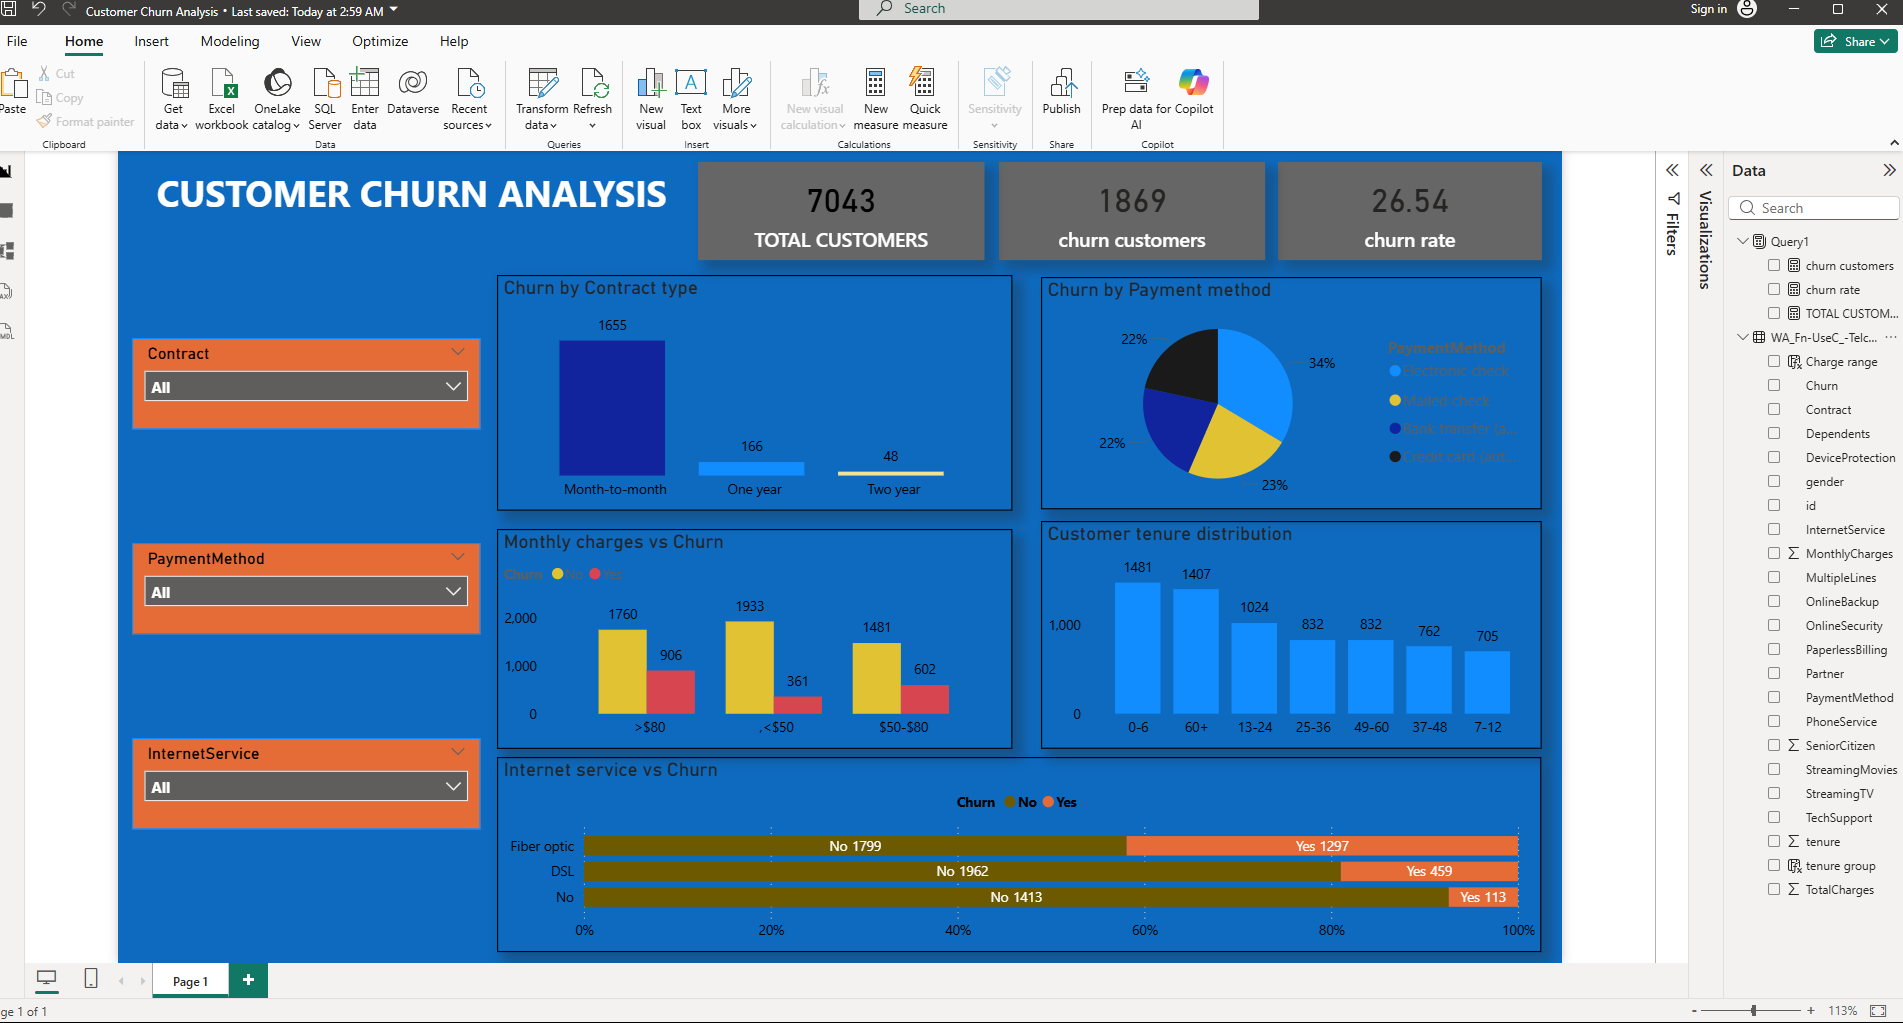

Layout of this report page (visuals, bound fields, positions):
{"tool":"powerbi","page":{"name":"Page 1","canvas":[1280,720],"ordinal":0},"visuals":[{"type":"card","fields":{"Values":["Query1.churn rate"]},"box":[1028.2,10,233.8,86.9],"z":0},{"type":"card","fields":{"Values":["Query1.churn customers"]},"box":[781.4,10,235.8,86.9],"z":1000},{"type":"card","fields":{"Values":["Query1.TOTAL CUSTOMERS"]},"box":[514.6,10,253.8,86.9],"z":2000},{"type":"columnChart","title":"Churn by  Contract type","fields":{"Category":["WA_Fn-UseC_-Telco-Customer-Churn.Contract"],"Y":["Query1.churn customers"]},"box":[335.7,109.9,456.6,208.8],"z":4000},{"type":"pieChart","title":"Churn by Payment method","fields":{"Category":["WA_Fn-UseC_-Telco-Customer-Churn.PaymentMethod"],"Y":["CountNonNull(WA_Fn-UseC_-Telco-Customer-Churn.Churn)"]},"box":[818.4,111.9,443.7,205.8],"z":5000},{"type":"clusteredColumnChart","title":"Monthly charges vs Churn","fields":{"Category":["WA_Fn-UseC_-Telco-Customer-Churn.Charge range"],"Y":["CountNonNull(WA_Fn-UseC_-Telco-Customer-Churn.id)"],"Series":["WA_Fn-UseC_-Telco-Customer-Churn.Churn"]},"box":[335.7,334.7,456.6,194.8],"z":6000},{"type":"clusteredColumnChart","title":"Customer tenure distribution","fields":{"Y":["CountNonNull(WA_Fn-UseC_-Telco-Customer-Churn.id)"],"Category":["WA_Fn-UseC_-Telco-Customer-Churn.tenure group"]},"box":[818.4,327.7,443.7,201.8],"z":7000},{"type":"hundredPercentStackedBarChart","title":"Internet service vs Churn","fields":{"Category":["WA_Fn-UseC_-Telco-Customer-Churn.InternetService"],"Series":["WA_Fn-UseC_-Telco-Customer-Churn.Churn"],"Y":["CountNonNull(WA_Fn-UseC_-Telco-Customer-Churn.id)"]},"box":[335.7,537.6,926.3,172.9],"z":7001},{"type":"slicer","fields":{"Values":["WA_Fn-UseC_-Telco-Customer-Churn.Contract"]},"box":[12,165.9,308.8,80.9],"z":7002},{"type":"slicer","fields":{"Values":["WA_Fn-UseC_-Telco-Customer-Churn.PaymentMethod"]},"box":[12,347.7,308.8,80.9],"z":7003},{"type":"slicer","fields":{"Values":["WA_Fn-UseC_-Telco-Customer-Churn.InternetService"]},"box":[12,520.6,308.8,80.9],"z":7004},{"type":"textbox","box":[29,10,472.6,91.9],"z":7005}]}

Visuals, with their boxes on the page's 1280x720 design canvas (x1, y1, x2, y2). These are canvas units, not pixel positions in the 1903x1023 screenshot, which may show the page scaled, cropped or inside an application window:
card - Query1.churn rate: pyautogui.locateOnScreen(1028, 10, 1262, 97)
card - Query1.churn customers: pyautogui.locateOnScreen(781, 10, 1017, 97)
card - Query1.TOTAL CUSTOMERS: pyautogui.locateOnScreen(515, 10, 768, 97)
"Churn by  Contract type" columnChart: pyautogui.locateOnScreen(336, 110, 792, 319)
"Churn by Payment method" pieChart: pyautogui.locateOnScreen(818, 112, 1262, 318)
"Monthly charges vs Churn" clusteredColumnChart: pyautogui.locateOnScreen(336, 335, 792, 530)
"Customer tenure distribution" clusteredColumnChart: pyautogui.locateOnScreen(818, 328, 1262, 530)
"Internet service vs Churn" hundredPercentStackedBarChart: pyautogui.locateOnScreen(336, 538, 1262, 710)
slicer - WA_Fn-UseC_-Telco-Customer-Churn.Contract: pyautogui.locateOnScreen(12, 166, 321, 247)
slicer - WA_Fn-UseC_-Telco-Customer-Churn.PaymentMethod: pyautogui.locateOnScreen(12, 348, 321, 429)
slicer - WA_Fn-UseC_-Telco-Customer-Churn.InternetService: pyautogui.locateOnScreen(12, 521, 321, 602)
textbox: pyautogui.locateOnScreen(29, 10, 502, 102)
